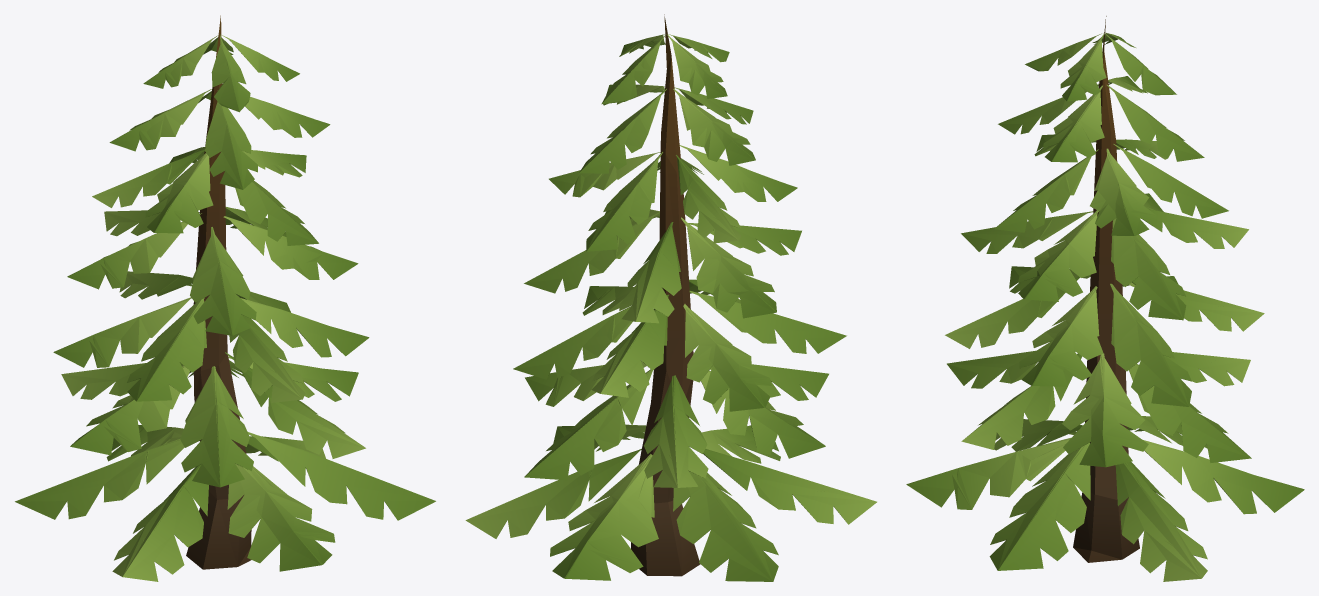
The model's file is Tree_06.fbx.
3 renders of one model, left to right at view 1: azimuth 30°, elevation 25°; view 2: azimuth 150°, elevation 25°; view 3: azimuth 270°, elevation 25°, orthographic. The views are drawn at different scales.
Visible parts, largest first — view 1: Tree_06; view 2: Tree_06; view 3: Tree_06.
Part boxes in pixels (x1,y1,x2,y2): Tree_06: [15, 15, 435, 581]; Tree_06: [465, 14, 876, 581]; Tree_06: [906, 16, 1304, 581].
Size of the model in its own units: 2.68 by 4.39 by 2.95.
